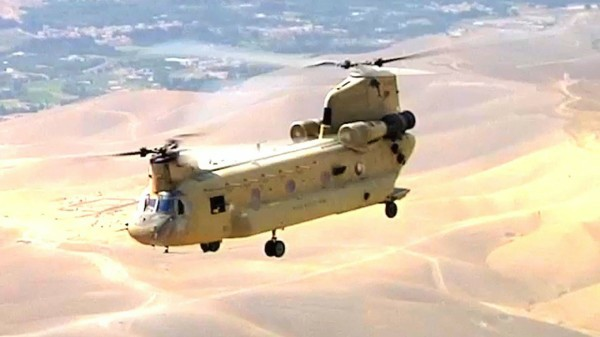chinook: (120, 54, 428, 256)
